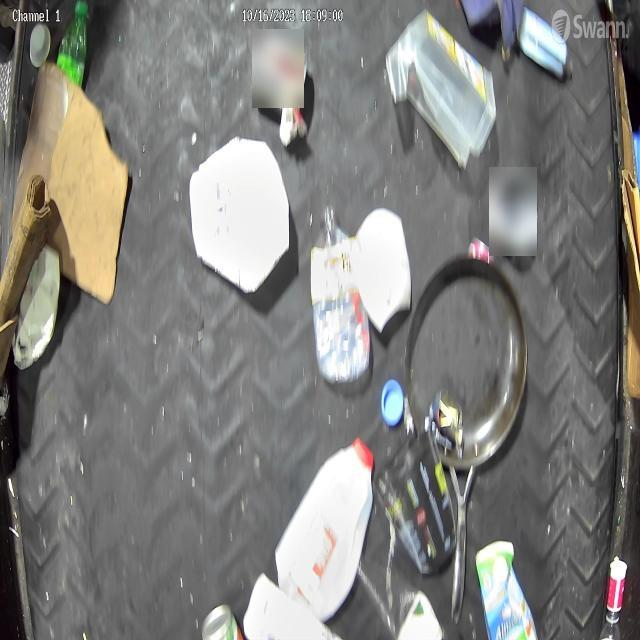milk_jug: (272, 438, 376, 616), (188, 136, 288, 300)
plastic_bottle: (310, 198, 370, 376)
